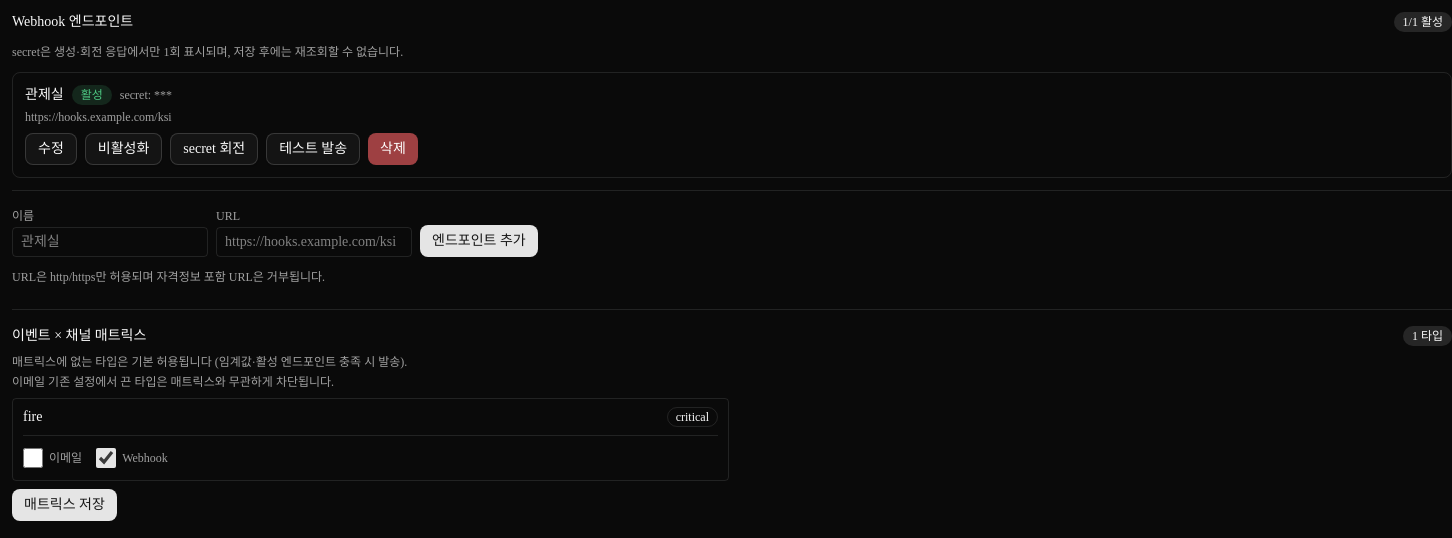
WebhookSettings › M1: 저장 성공 시 서버가 돌려준 channels로 state가 동기화된다
Click the button "매트릭스 저장" at (64, 505), box [12, 489, 117, 521]
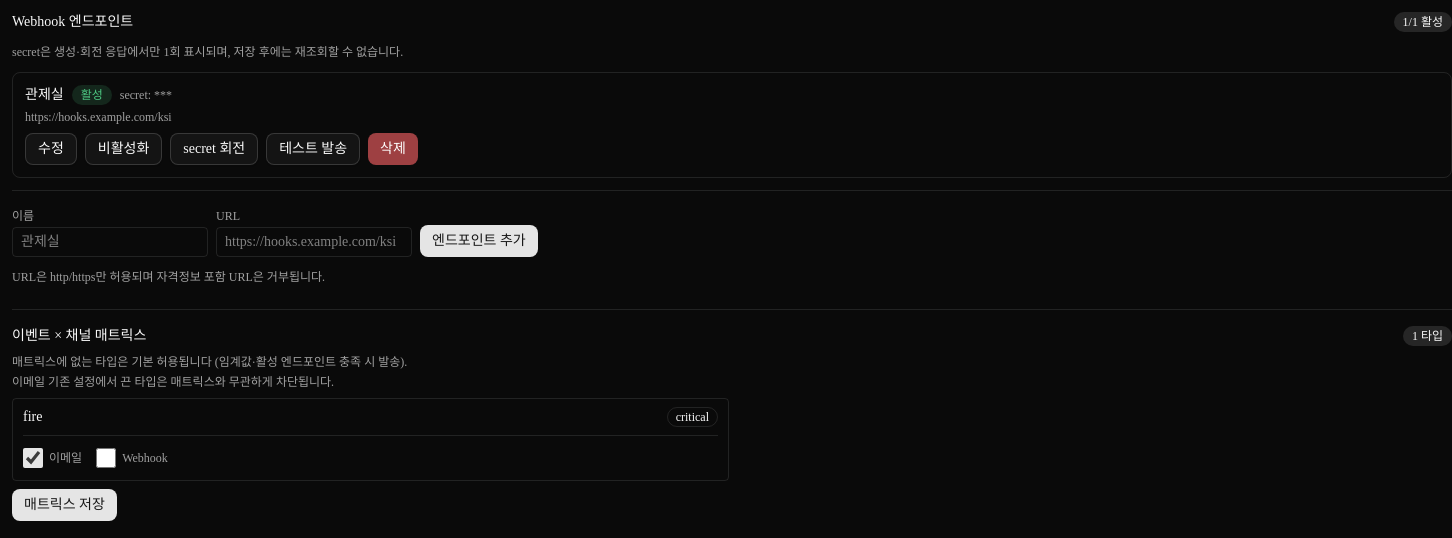
Expected: the checkbox named "fire webhook" is not checked, [96, 448, 116, 468]
Expected: the checkbox named "fire email" is checked, [23, 448, 43, 468]
